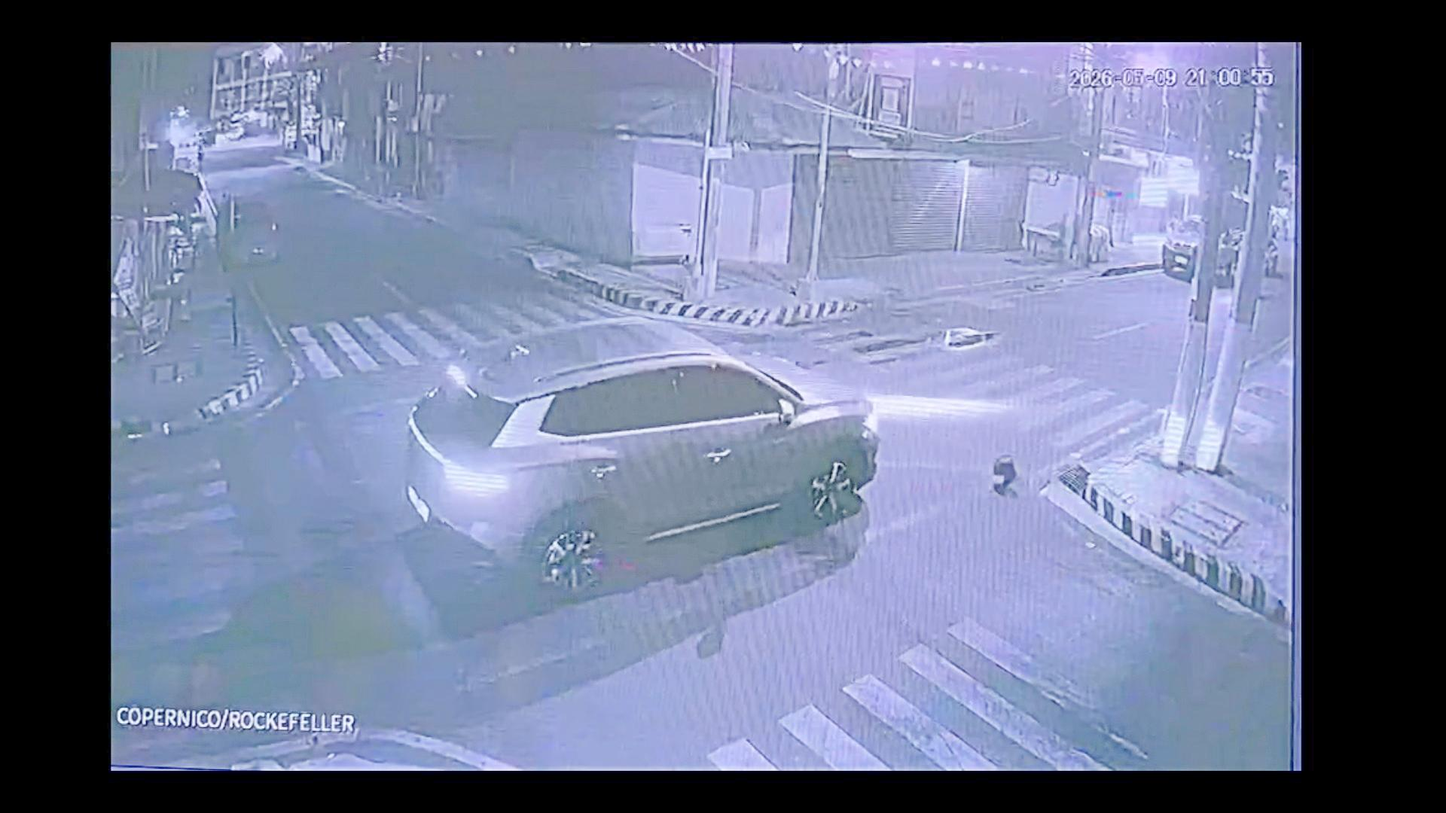Car: (440, 332, 872, 540)
